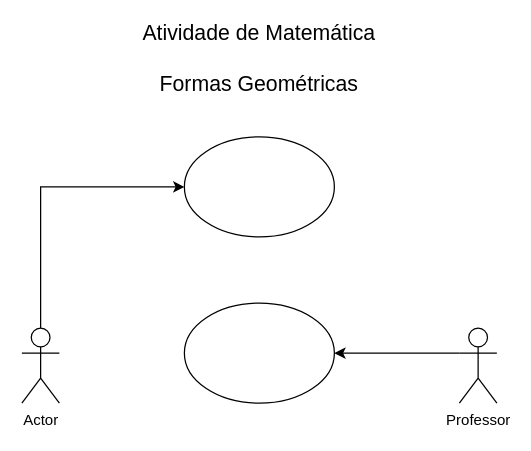
This 531x451 diagram has some shape labels left out. Each missing label, with the centre of its shape:
"Reproduz o áudio correspondente a forma geométrica" belongs at (258,352).
"Visualiza a forma geométrica e sua escrita" belongs at (258,186).
